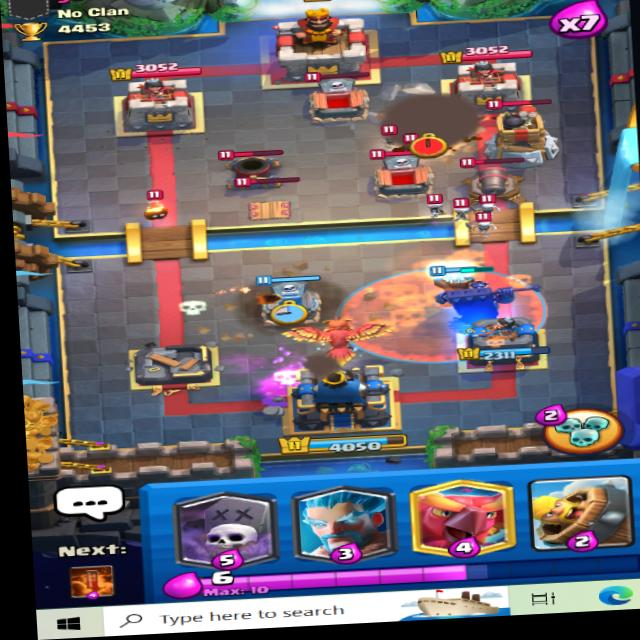bomb-tower: (482, 96, 562, 165)
cannon: (450, 153, 538, 207)
fire-spirit: (138, 192, 177, 221)
mortar: (211, 146, 291, 187)
skeleton: (421, 191, 449, 221), (470, 192, 502, 215), (472, 214, 500, 237), (456, 196, 478, 220)
tesla-closed: (220, 173, 308, 227)
tombstone: (361, 143, 434, 206), (293, 67, 371, 124)
